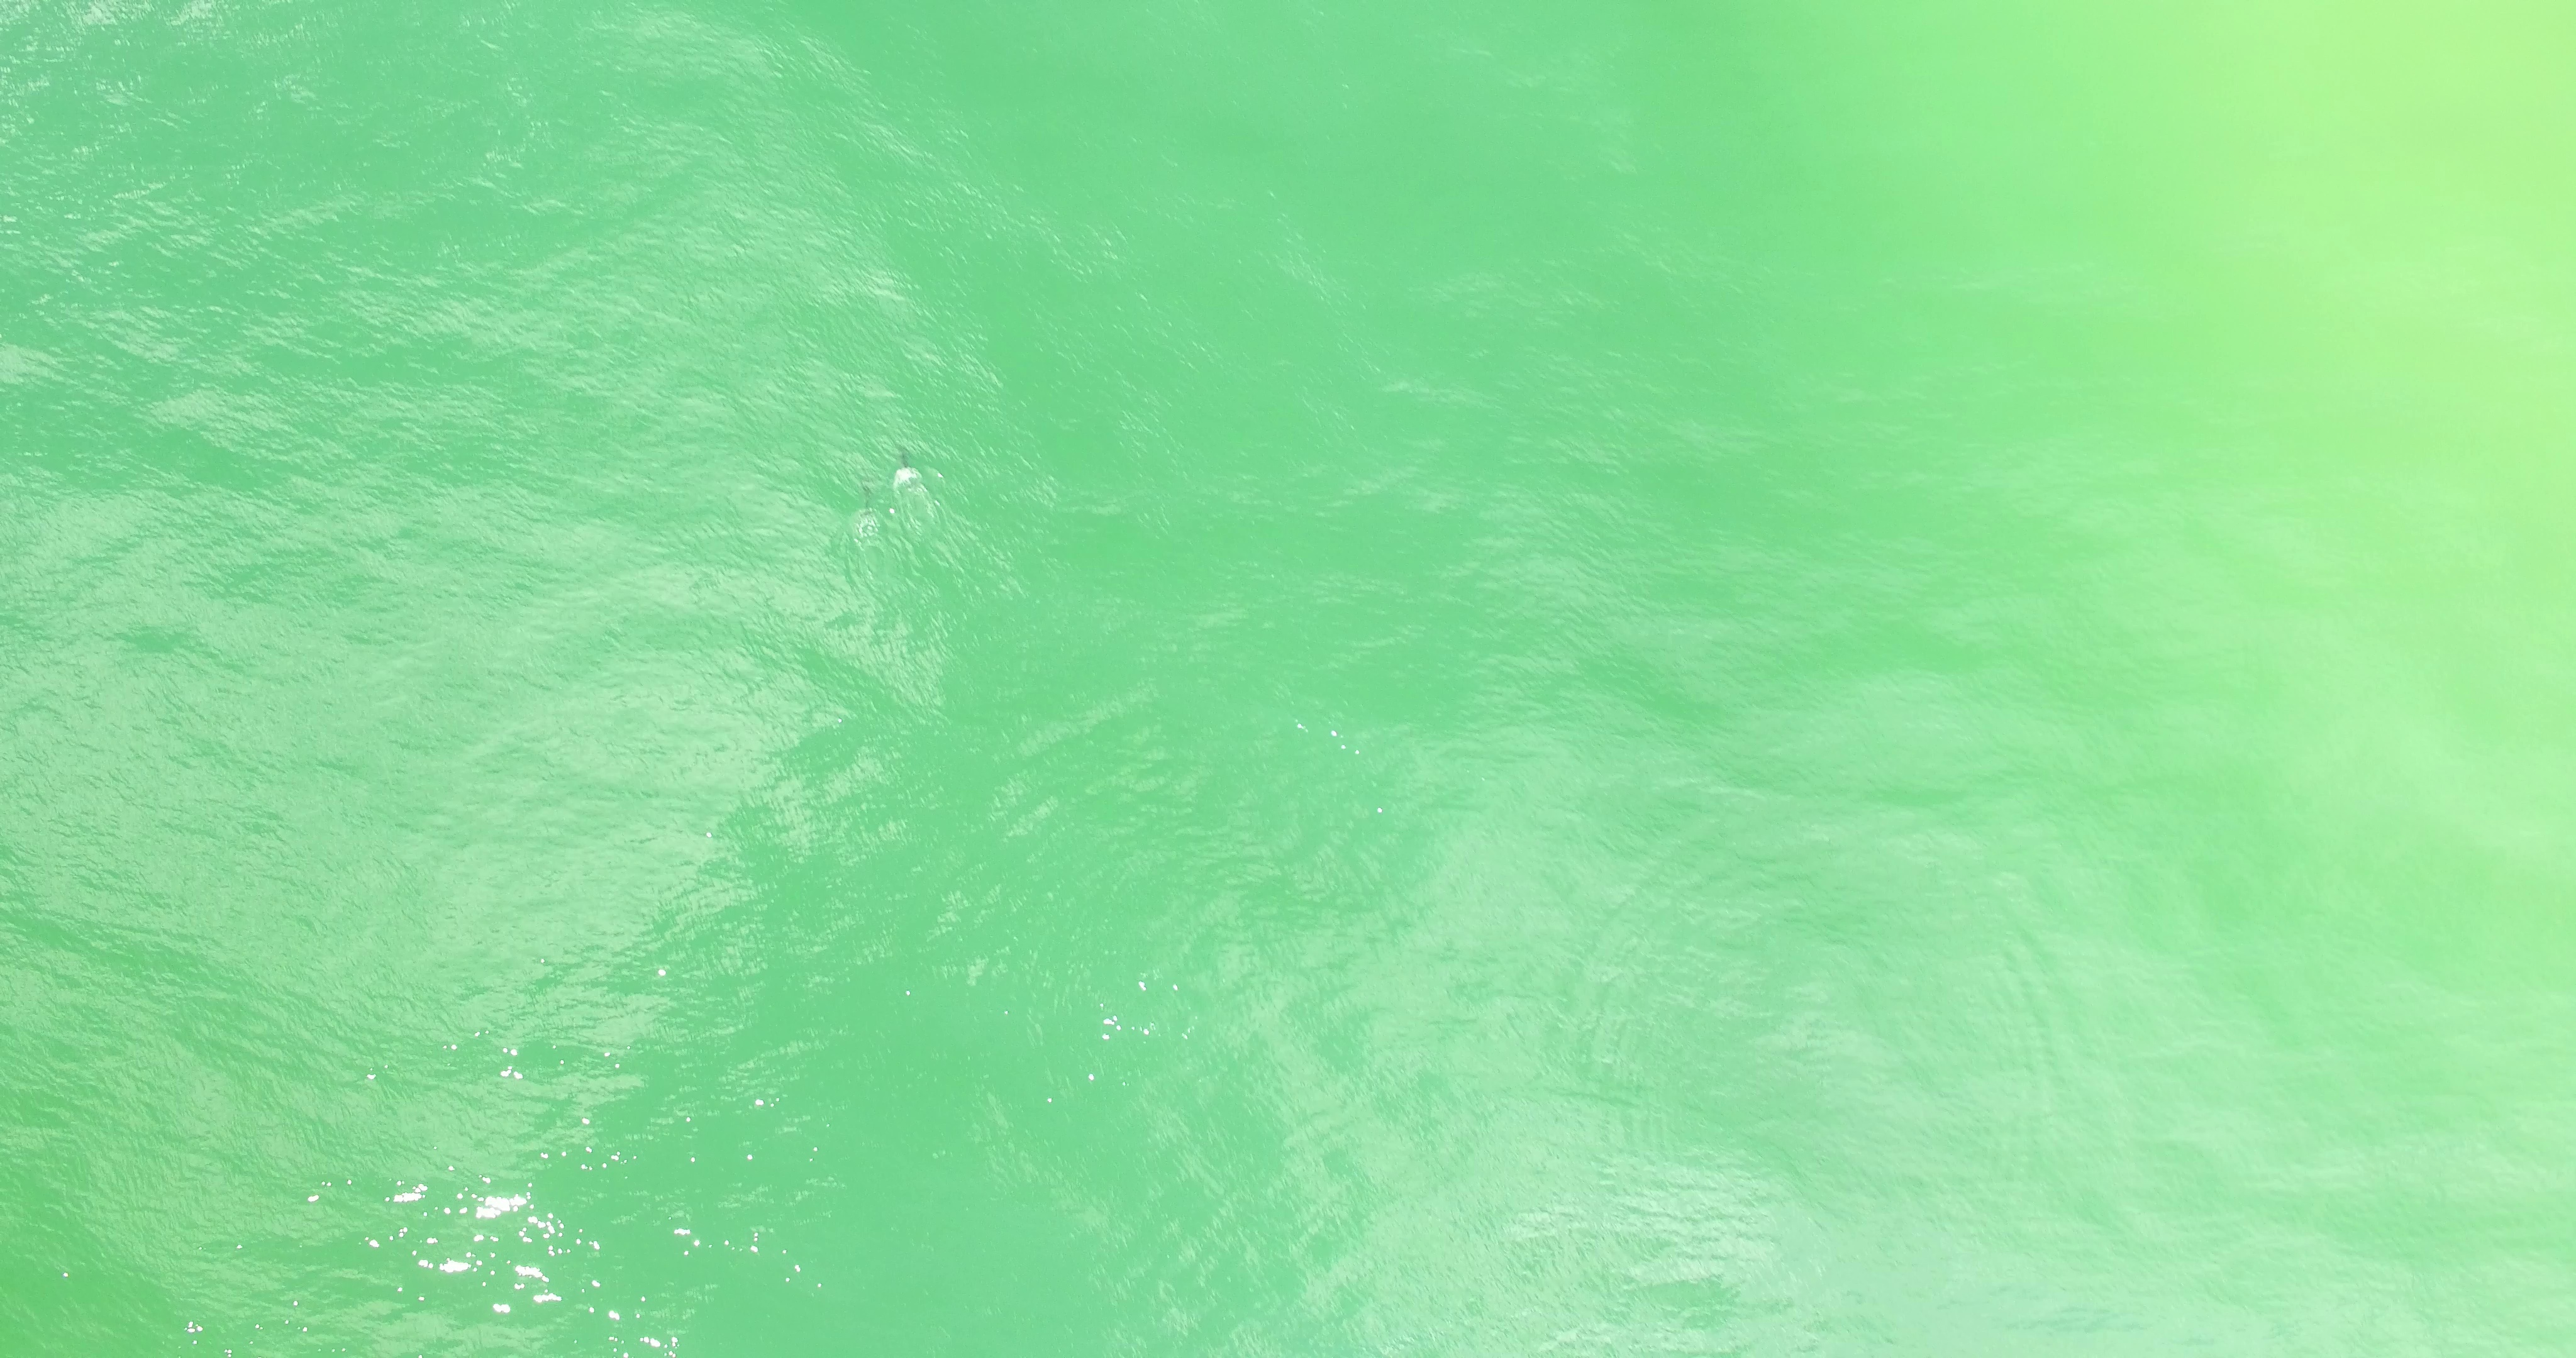dolphin: (894, 445, 922, 489), (860, 474, 877, 521)
